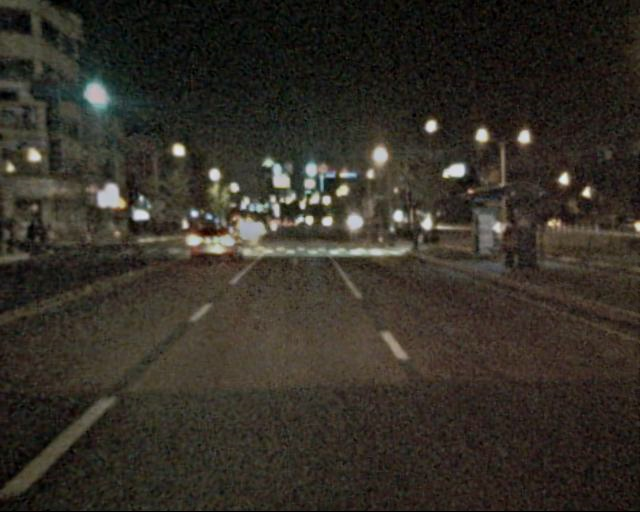person: (513, 217, 536, 274), (497, 220, 518, 277)
